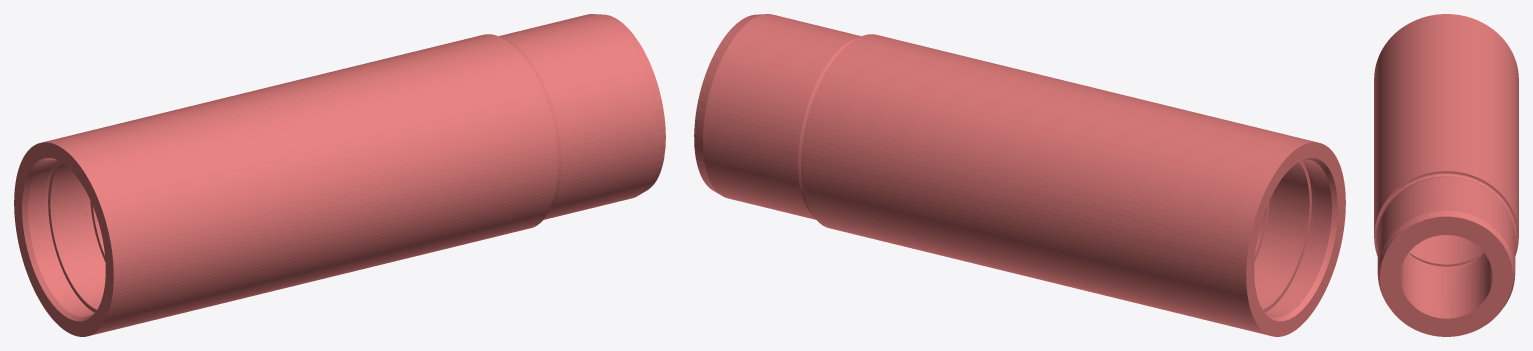
The model's file is bauteil.glb.
3 renders of one model, left to right at view 1: azimuth 30°, elevation 25°; view 2: azimuth 150°, elevation 25°; view 3: azimuth 270°, elevation 25°, orthographic. The views are drawn at different scales.
Visible parts, largest first — view 1: Node1; view 2: Node1; view 3: Node1.
Part boxes in pixels (box(x1,y1,x2,y2)): Node1: box(14, 14, 665, 336); Node1: box(694, 14, 1345, 336); Node1: box(1374, 14, 1518, 336).
Size of the model in its own units: 187 by 58 by 57.98.
